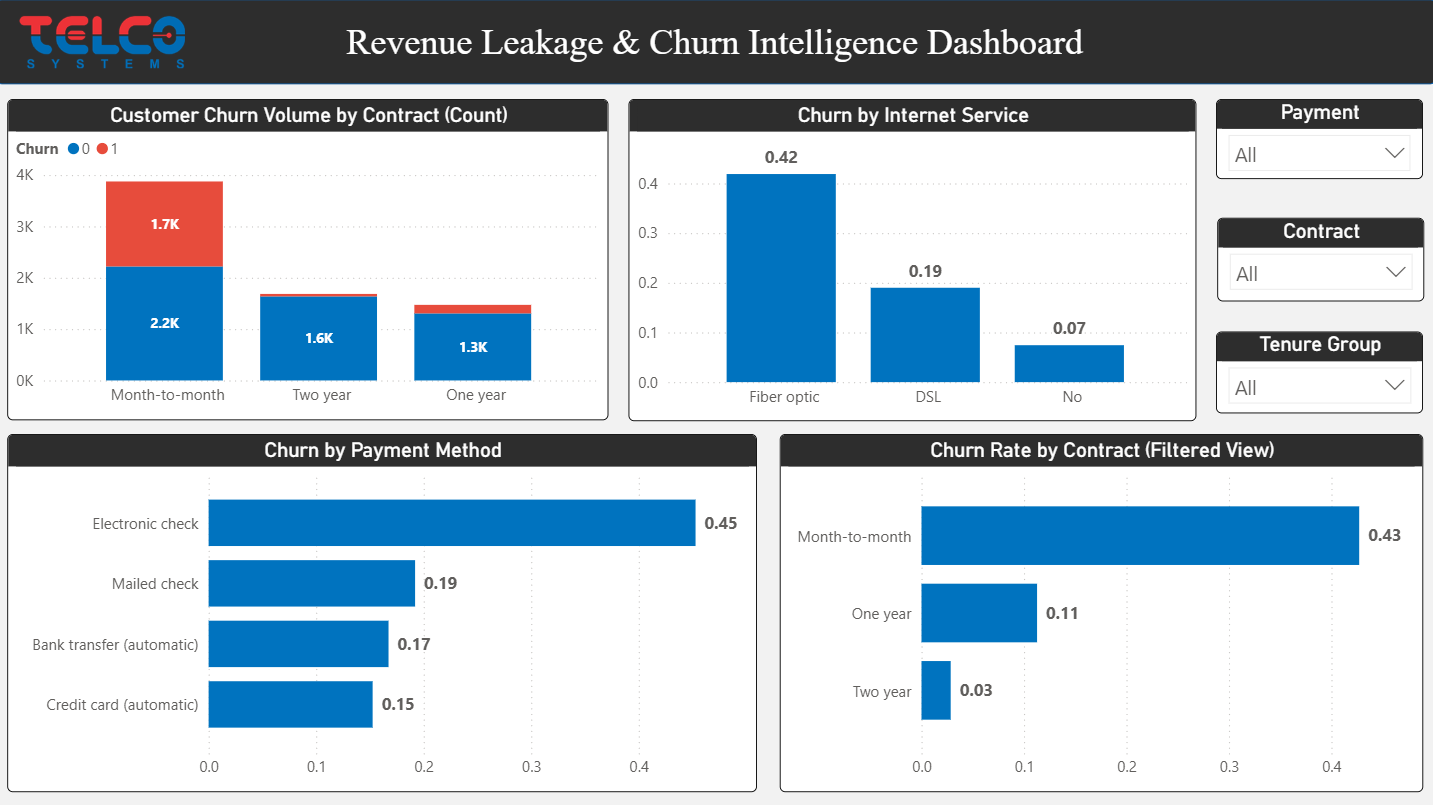

What the dashboard file says about the page in this screenshot:
{"tool":"powerbi","page":{"name":"Churn Intelligence","canvas":[1280,720],"ordinal":1},"visuals":[{"type":"shape","box":[0,0,1280,76],"z":0},{"type":"columnChart","title":"Customer Churn Volume by Contract (Count)","fields":{"Category":["revenue_leakage telco_churn.Contract"],"Y":["CountNonNull(revenue_leakage telco_churn.tenure)"],"Series":["revenue_leakage telco_churn.Churn"]},"box":[10,88.6,534.3,285.7],"z":1000},{"type":"barChart","title":"Churn Rate by Contract (Filtered View)","fields":{"Category":["revenue_leakage telco_churn.Contract"],"Y":["Avg(revenue_leakage telco_churn.Churn)"]},"box":[696.7,386.7,571.7,318.3],"z":2000},{"type":"slicer","title":"Contract","fields":{"Values":["revenue_leakage telco_churn.Contract"]},"box":[1085,194,184,74],"z":3000},{"type":"slicer","title":"Tenure Group","fields":{"Values":["revenue_leakage telco_churn.TenureGroup"]},"box":[1084,295,184,73],"z":4000},{"type":"slicer","title":"Payment","fields":{"Values":["revenue_leakage telco_churn.PaymentMethod"]},"box":[1084.6,88.5,183.8,71.5],"z":5000},{"type":"barChart","title":"Churn by Payment Method","fields":{"Category":["revenue_leakage telco_churn.PaymentMethod"],"Y":["Avg(revenue_leakage telco_churn.Churn)"]},"box":[10,386.7,666.7,318.3],"z":6000},{"type":"columnChart","title":"Churn by Internet Service","fields":{"Category":["revenue_leakage telco_churn.InternetService"],"Y":["Avg(revenue_leakage telco_churn.Churn)"]},"box":[561.7,88.3,505,286.7],"z":7000},{"type":"textbox","box":[227.1,14.3,824.3,51.4],"z":8000},{"type":"image","box":[0,14.3,188.6,56.1],"z":9000}]}

Visuals, with their boxes in screenshot pixels (x1, y1, x2, y2), scaled from the page's 1280x720 canvas onto the 1433x805 screenshot:
shape: detection(0, 0, 1432, 85)
"Customer Churn Volume by Contract (Count)" columnChart: detection(11, 99, 609, 418)
"Churn Rate by Contract (Filtered View)" barChart: detection(780, 432, 1420, 788)
"Contract" slicer: detection(1215, 217, 1421, 300)
"Tenure Group" slicer: detection(1214, 330, 1420, 411)
"Payment" slicer: detection(1214, 99, 1420, 179)
"Churn by Payment Method" barChart: detection(11, 432, 758, 788)
"Churn by Internet Service" columnChart: detection(629, 99, 1194, 419)
textbox: detection(254, 16, 1177, 73)
image: detection(0, 16, 211, 79)
